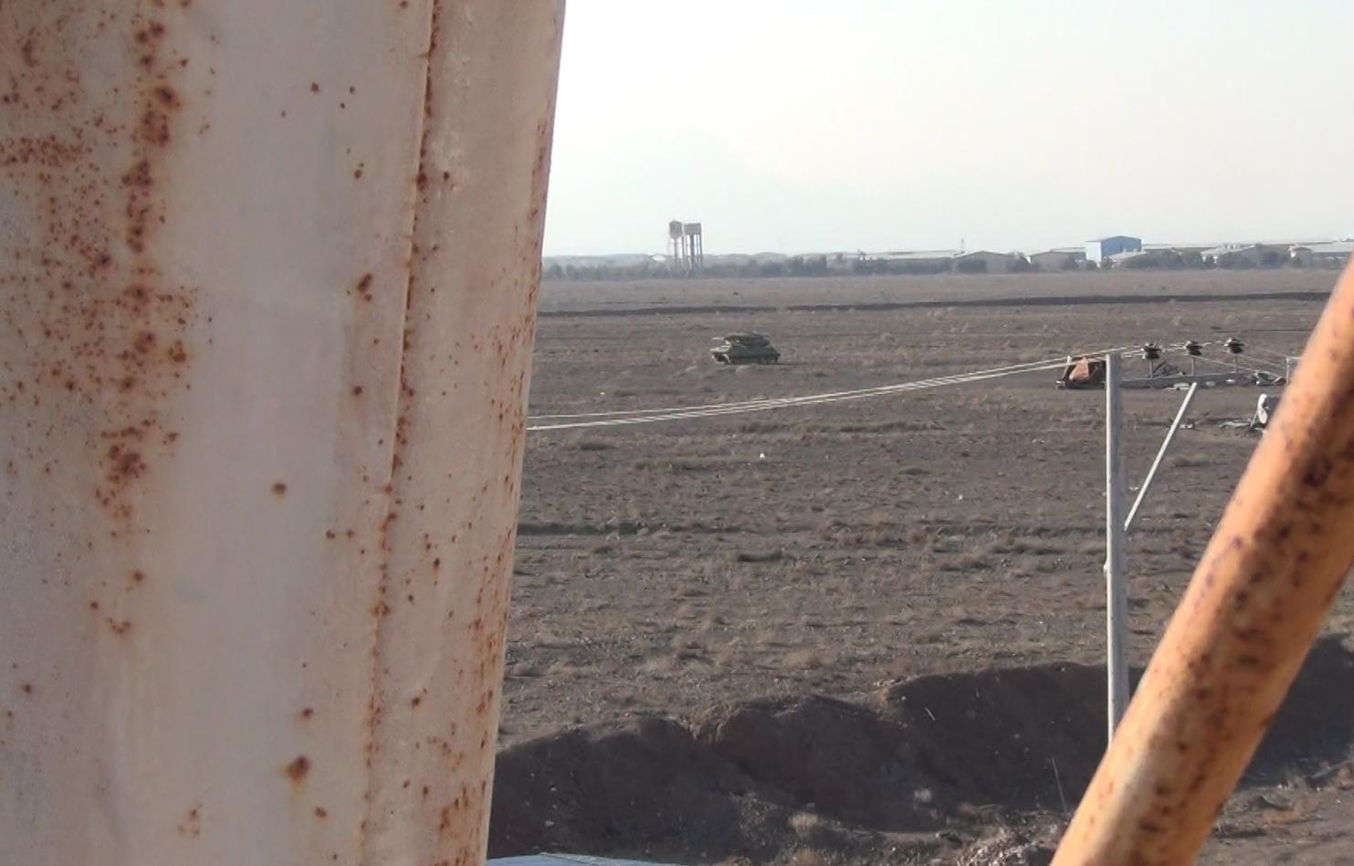armored_car: (708, 327, 785, 370)
